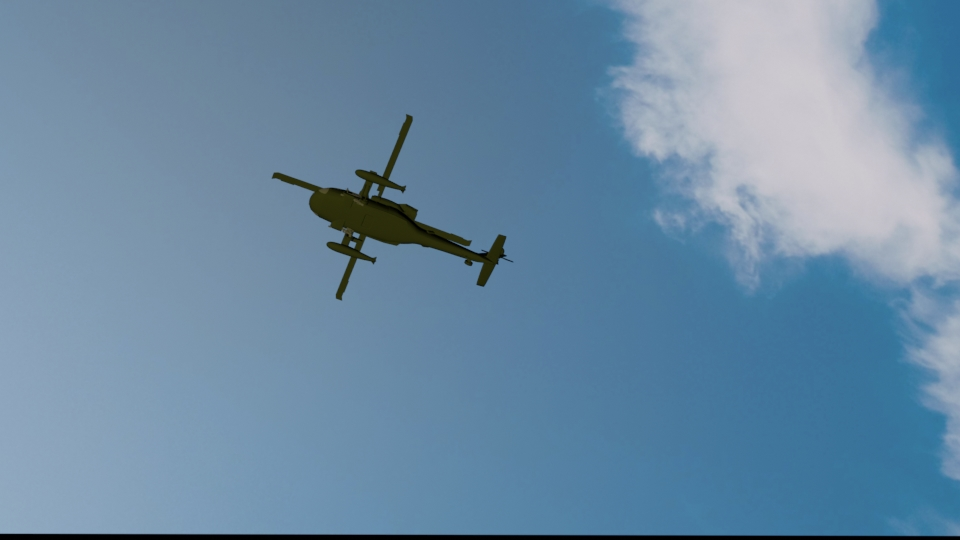heli: (270, 110, 509, 303)
